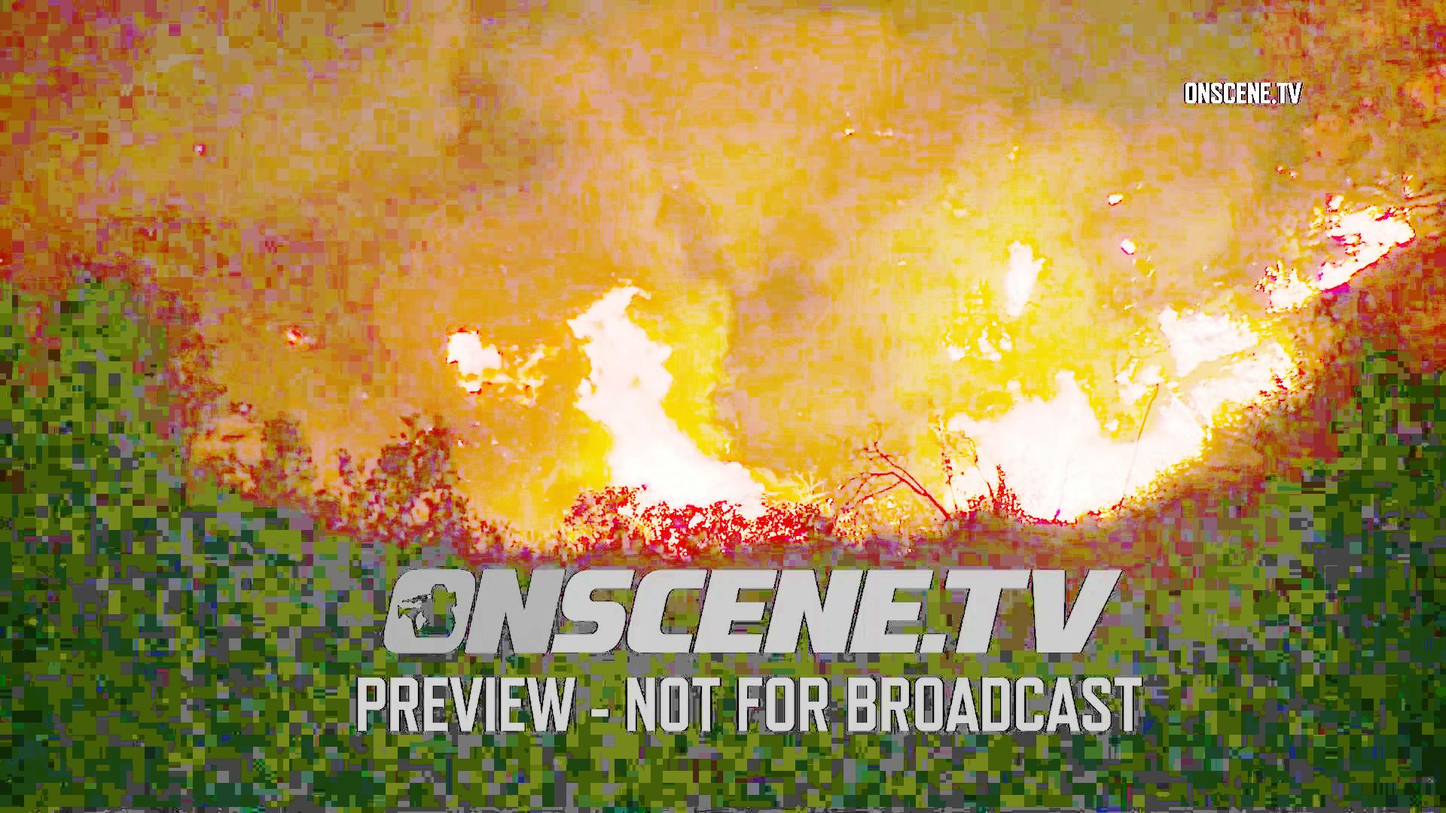fire: (441, 281, 754, 521), (929, 236, 1103, 508)
